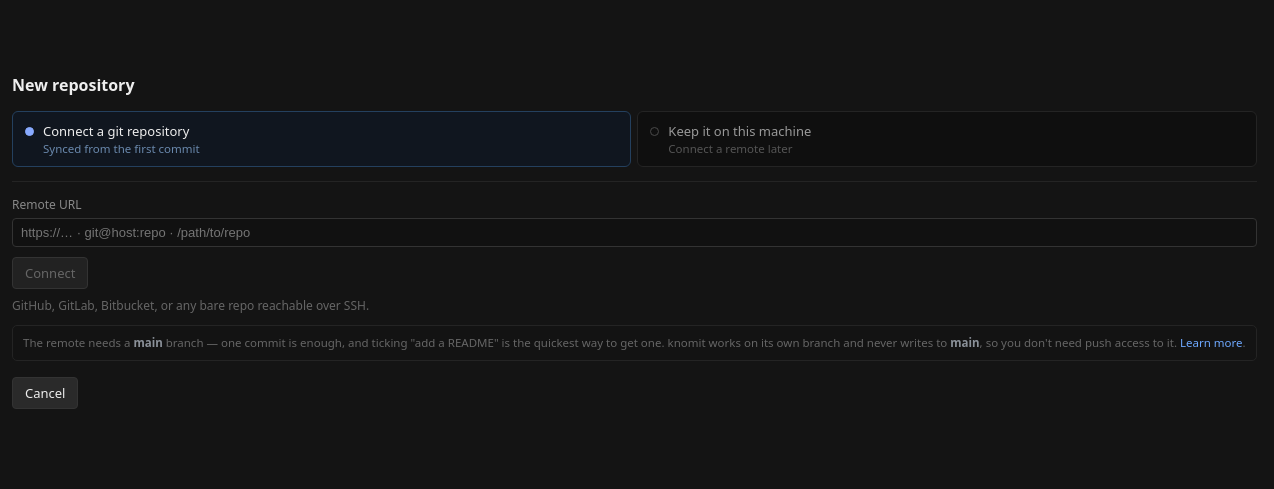
the wizard against a fake git host › an unreachable remote holds the source step › never advertises an access step for a remote it could not reach
In the field with test id "create-url": (634, 233) [12,218,1257,247], type "https://nope.example/r.git"
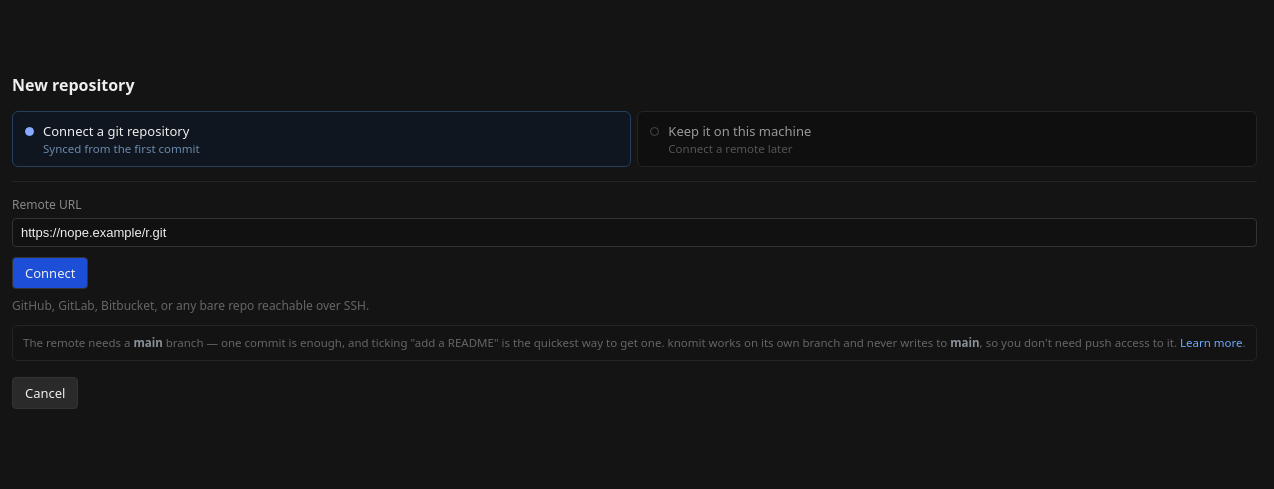
Click the button with test id "probe-button": (50, 273) [12,257,88,289]
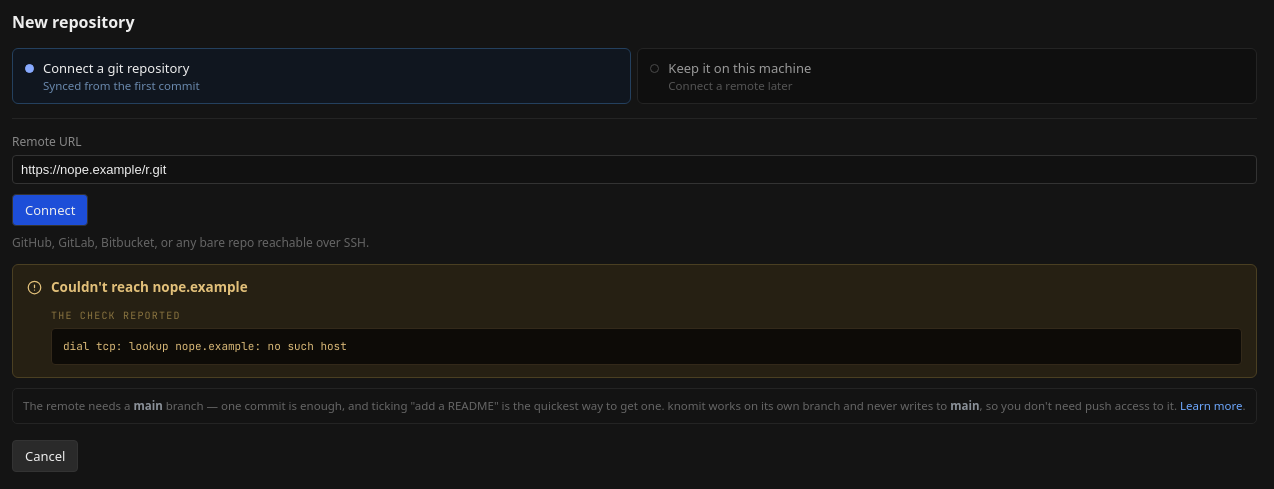
Check: the element with test id "source-outcome" is shown, box [12,264,1257,378]
Check: the text with test id "outcome-detail" shows "no such host", box [63,339,347,353]
